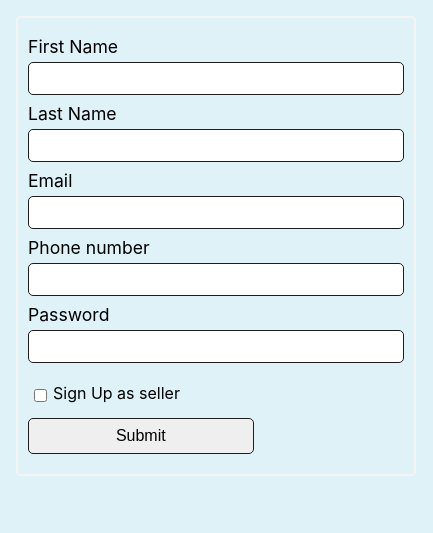
Scenario: Check validations for first_name
This screenshot has width=433, height=533.
Type "Ae" into the field with test id "first_name". click: (216, 78)
box: [28,62,404,95]
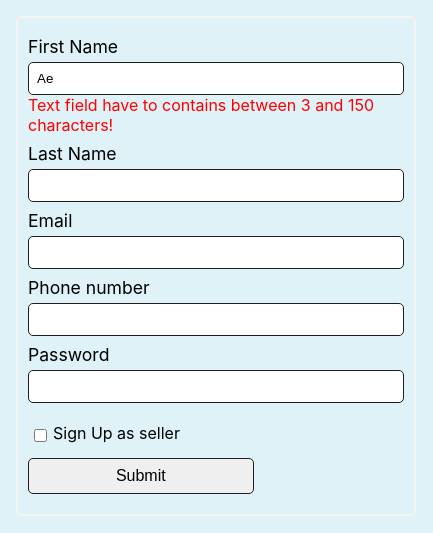
Expected: the text "Text field have to contains between 3 and 150 characters!" is shown, [28,95,404,135]
Expected: the text with test id "valerror-first_name" reads "Text field have to contains between 3 and 150 characters!", [28,95,374,135]
Replace the text in the field with test id "first_name" with "ewafewa waef ewaf ewafwe afweaf 34qr43 f43f43wf 4we3 fe4fe4 fef4q a4f 4ef 4ef 43e 4ef4 3efwe4afas efdsa fsdaf443rtt34f34fe4r fddfs fdsgdfsggfsd fsdgdfsgdfsg". click: (216, 78)
box: [28,62,404,95]
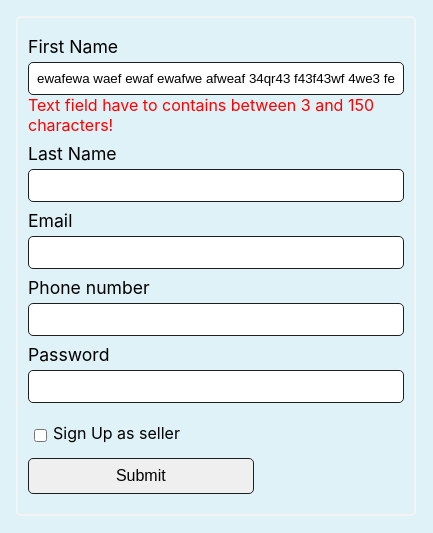
Expected: the text "Text field have to contains between 3 and 150 characters!" is shown, [28,95,404,135]
Expected: the text with test id "valerror-first_name" reads "Text field have to contains between 3 and 150 characters!", [28,95,374,135]
Clear the field with test id "first_name". click: (216, 78)
box: [28,62,404,95]
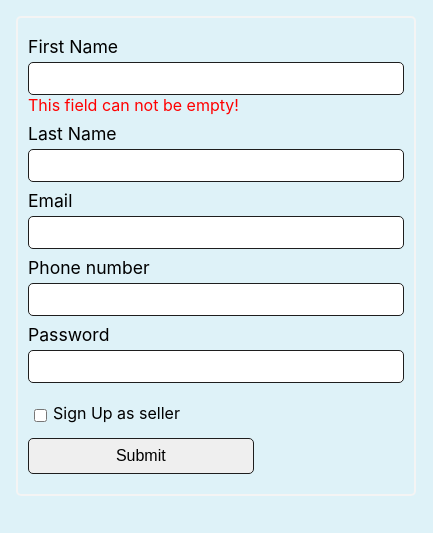
Expected: the text with test id "valerror-first_name" reads "This field can not be empty!", [28,95,239,115]
